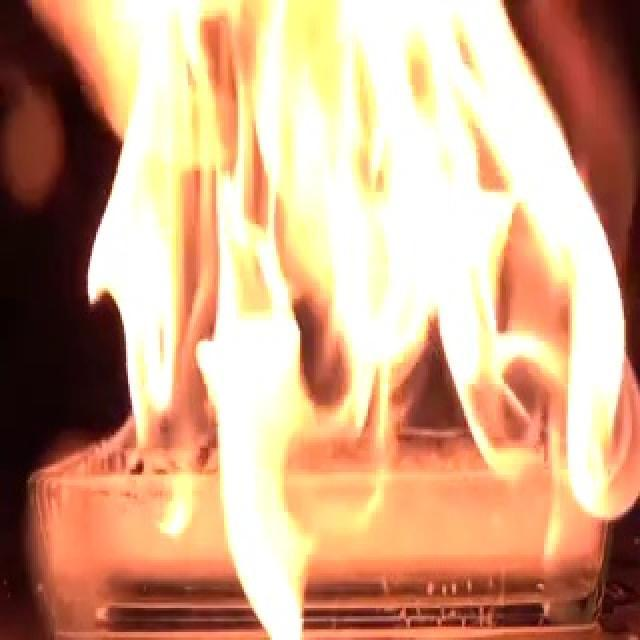Fire: (83, 2, 639, 568)
